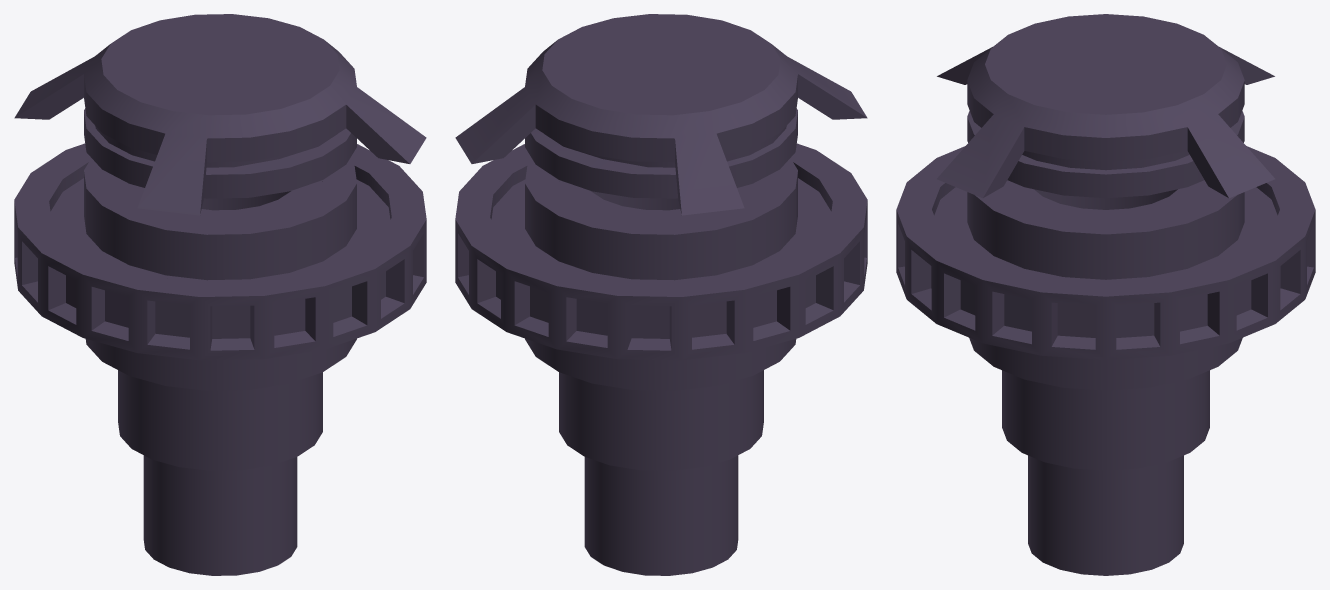
Rendered from PistonRoot.fbx.
3 views of the same model, side by side, from view 1: azimuth 30°, elevation 25°; view 2: azimuth 150°, elevation 25°; view 3: azimuth 270°, elevation 25° (orthographic).
Parts seen in each view (by area): view 1: Platform, A_1, BaseSleeve, RoadTube, HeadCap; view 2: Platform, A_1, BaseSleeve, RoadTube, HeadCap; view 3: Platform, A_1, BaseSleeve, RoadTube, HeadCap.
Boxes of the visible parts, x1,y1,x2,y2 form: Platform: (14,14,426,215); A_1: (14,143,426,360); BaseSleeve: (84,158,356,390); RoadTube: (118,178,322,470); HeadCap: (143,455,297,575); Platform: (455,14,867,215); A_1: (455,143,867,360); BaseSleeve: (525,158,797,390); RoadTube: (559,178,763,470); HeadCap: (584,455,738,575); Platform: (937,14,1274,198); A_1: (896,146,1315,359); BaseSleeve: (967,184,1244,390); RoadTube: (1002,180,1209,470); HeadCap: (1028,455,1183,575).
Size of the model in its own units: 899 by 1151 by 912.
